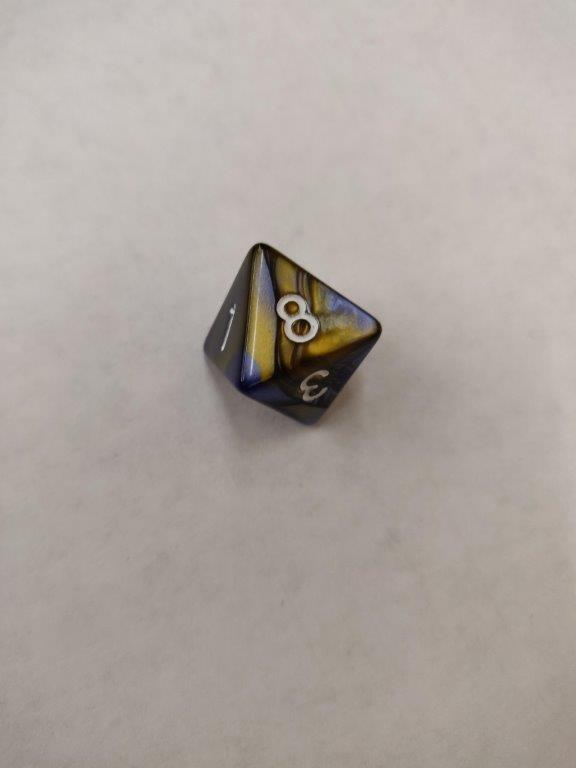d8-8: (201, 244, 383, 435)
